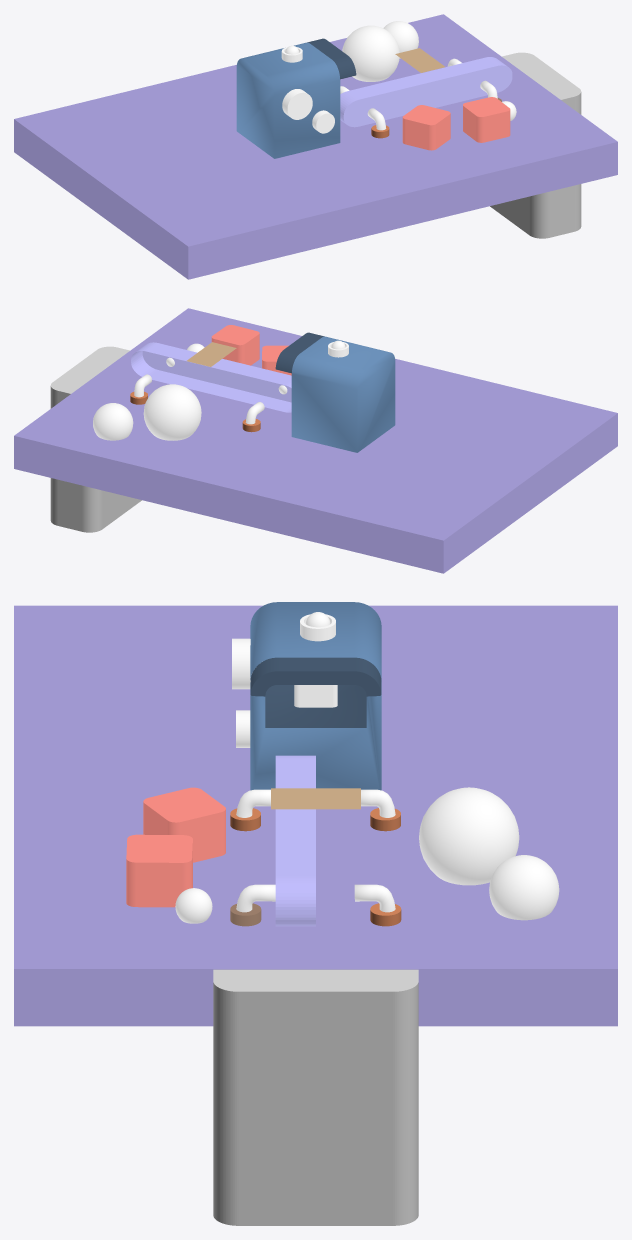
The model's file is factory.glb.
3 views of the same model, one above another, from view 1: azimuth 30°, elevation 25°; view 2: azimuth 150°, elevation 25°; view 3: azimuth 270°, elevation 25° (orthographic). The views are drawn at different scales.
Parts seen in each view (by area): view 1: Cube, Cube.002, Plane.002, Cube.001, Sphere.001, Cube.003, Cube.010, Cube.004, Cube.009, Sphere.002, Plane.001, Cylinder (+1 smaller); view 2: Cube, Cube.002, Plane.002, Cube.001, Sphere.001, Cube.010, Sphere.002, Cube.004, Plane.001, Cylinder, Cube.003; view 3: Cube, Cube.001, Cube.002, Sphere.001, Plane.002, Cube.010, Cube.003, Cube.004, Sphere.002, Cylinder, Plane.001, Sphere (+2 smaller).
Boxes of the visible parts, x1,y1,x2,y2 form: Cube: [14, 14, 617, 279]; Cube.002: [236, 42, 340, 158]; Plane.002: [340, 57, 512, 127]; Cube.001: [490, 52, 581, 238]; Sphere.001: [342, 25, 399, 81]; Cube.003: [402, 105, 450, 150]; Cube.010: [463, 97, 510, 142]; Cube.004: [307, 38, 356, 79]; Cube.009: [282, 89, 312, 119]; Sphere.002: [383, 21, 418, 58]; Plane.001: [395, 48, 444, 72]; Cylinder: [340, 58, 497, 130]; Cube: [14, 308, 617, 573]; Cube.002: [291, 336, 395, 452]; Plane.002: [131, 342, 291, 412]; Cube.001: [50, 346, 141, 532]; Sphere.001: [143, 384, 201, 440]; Cube.010: [211, 325, 259, 365]; Sphere.002: [93, 403, 133, 440]; Cube.004: [275, 332, 324, 373]; Plane.001: [187, 342, 236, 366]; Cylinder: [134, 357, 287, 424]; Cube.003: [262, 345, 291, 375]; Cube: [14, 605, 617, 1026]; Cube.001: [213, 969, 418, 1225]; Cube.002: [250, 602, 381, 790]; Sphere.001: [419, 787, 519, 885]; Plane.002: [275, 755, 315, 926]; Cube.010: [126, 834, 192, 907]; Cube.003: [143, 787, 225, 862]; Cube.004: [250, 657, 381, 696]; Sphere.002: [489, 855, 559, 920]; Cylinder: [236, 789, 395, 912]; Plane.001: [271, 788, 360, 809]; Sphere: [175, 888, 212, 923].
Size of the model in its own units: 11.58 by 5.46 by 7.67.
